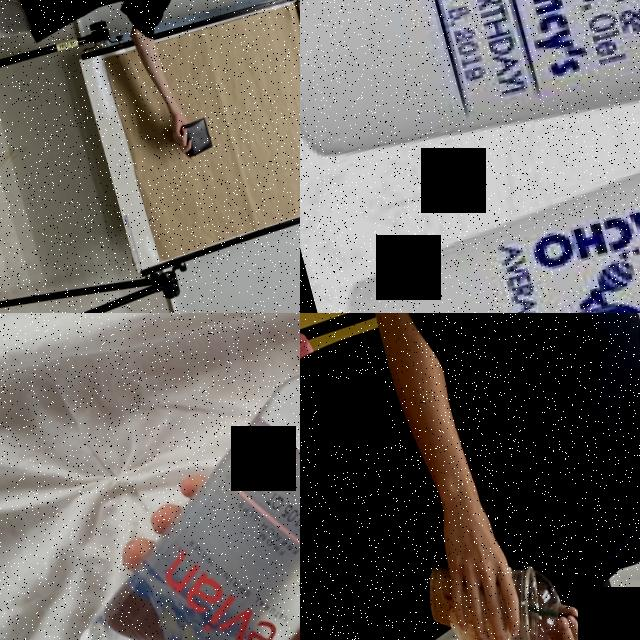bottle: (0, 348, 300, 640)
cup: (315, 68, 640, 313), (300, 0, 640, 212), (415, 535, 573, 640)
